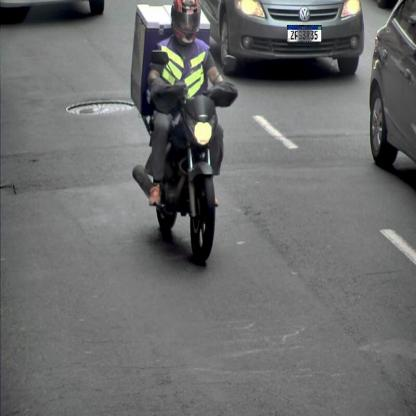PlacaM: (287, 25, 322, 42)
